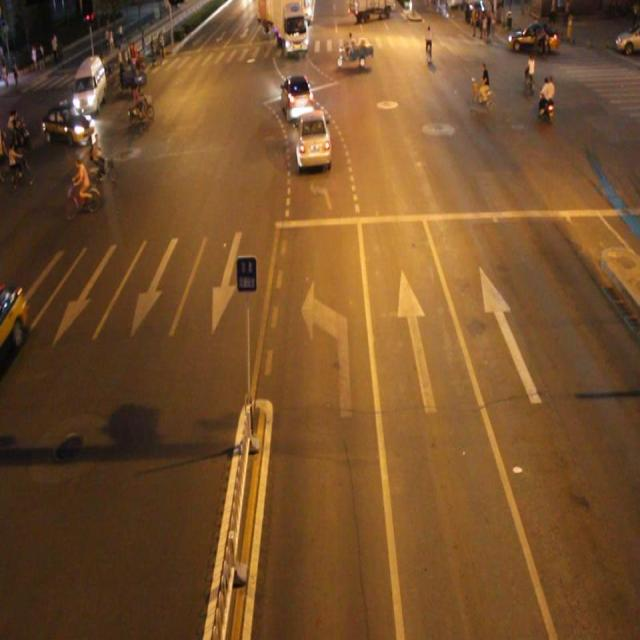car: (40, 100, 95, 146), (293, 108, 332, 171), (1, 288, 28, 366), (278, 70, 315, 121)
